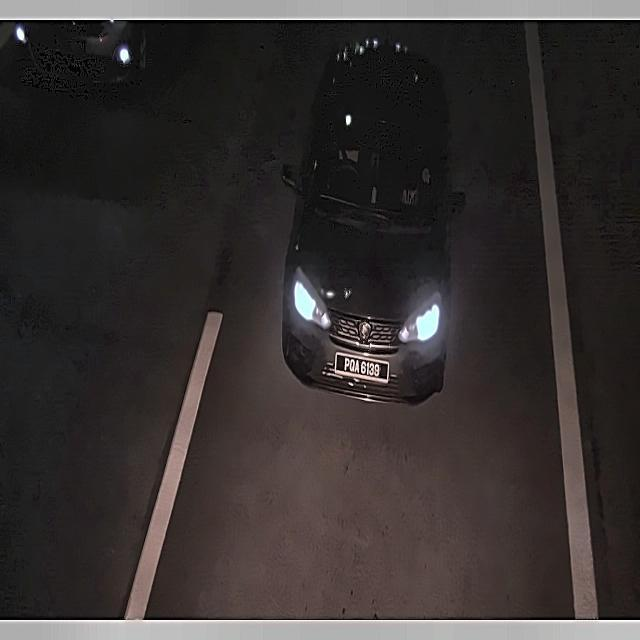car: (333, 348, 395, 385)
